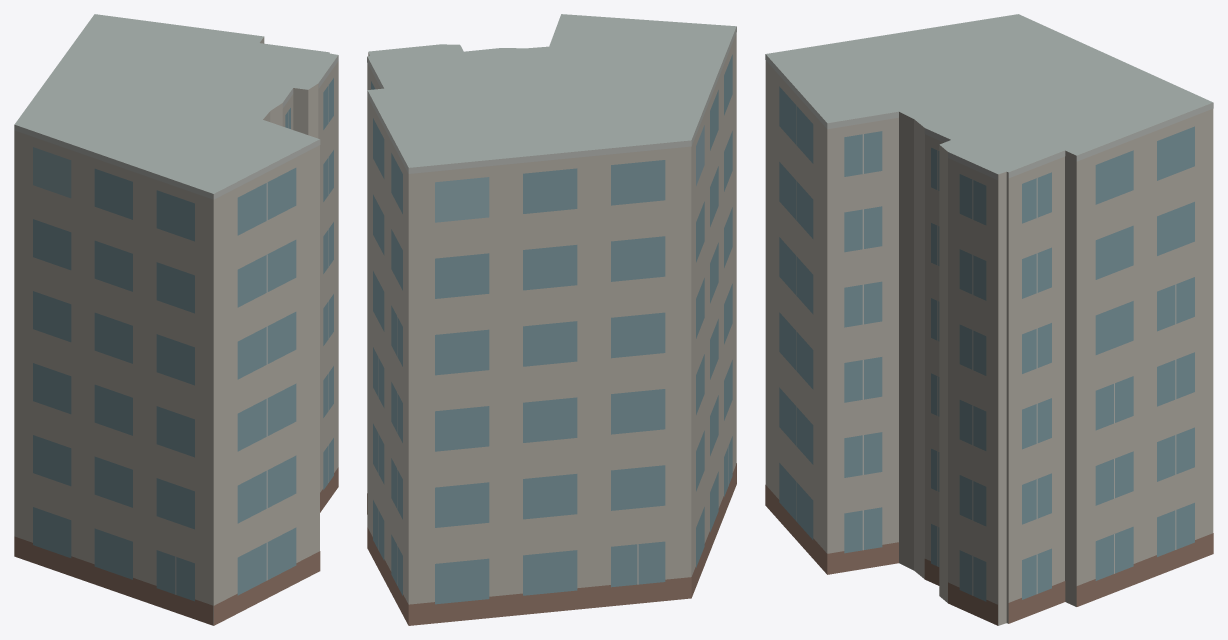
File: survey-upis-33007045.glb
The picture shows the model from 3 angles, left to right: view 1: azimuth 30°, elevation 25°; view 2: azimuth 150°, elevation 25°; view 3: azimuth 270°, elevation 25°; orthographic projection. The views are drawn at different scales.
Visible parts, largest first — view 1: survey-upis-33007045.tmp; view 2: survey-upis-33007045.tmp; view 3: survey-upis-33007045.tmp.
Part boxes in pixels (x1,y1,x2,y2): survey-upis-33007045.tmp: (14,14,338,625); survey-upis-33007045.tmp: (367,14,736,625); survey-upis-33007045.tmp: (765,14,1213,625).
Bounding box in the file's own units: 13.95 × 18.3 × 16.46.
